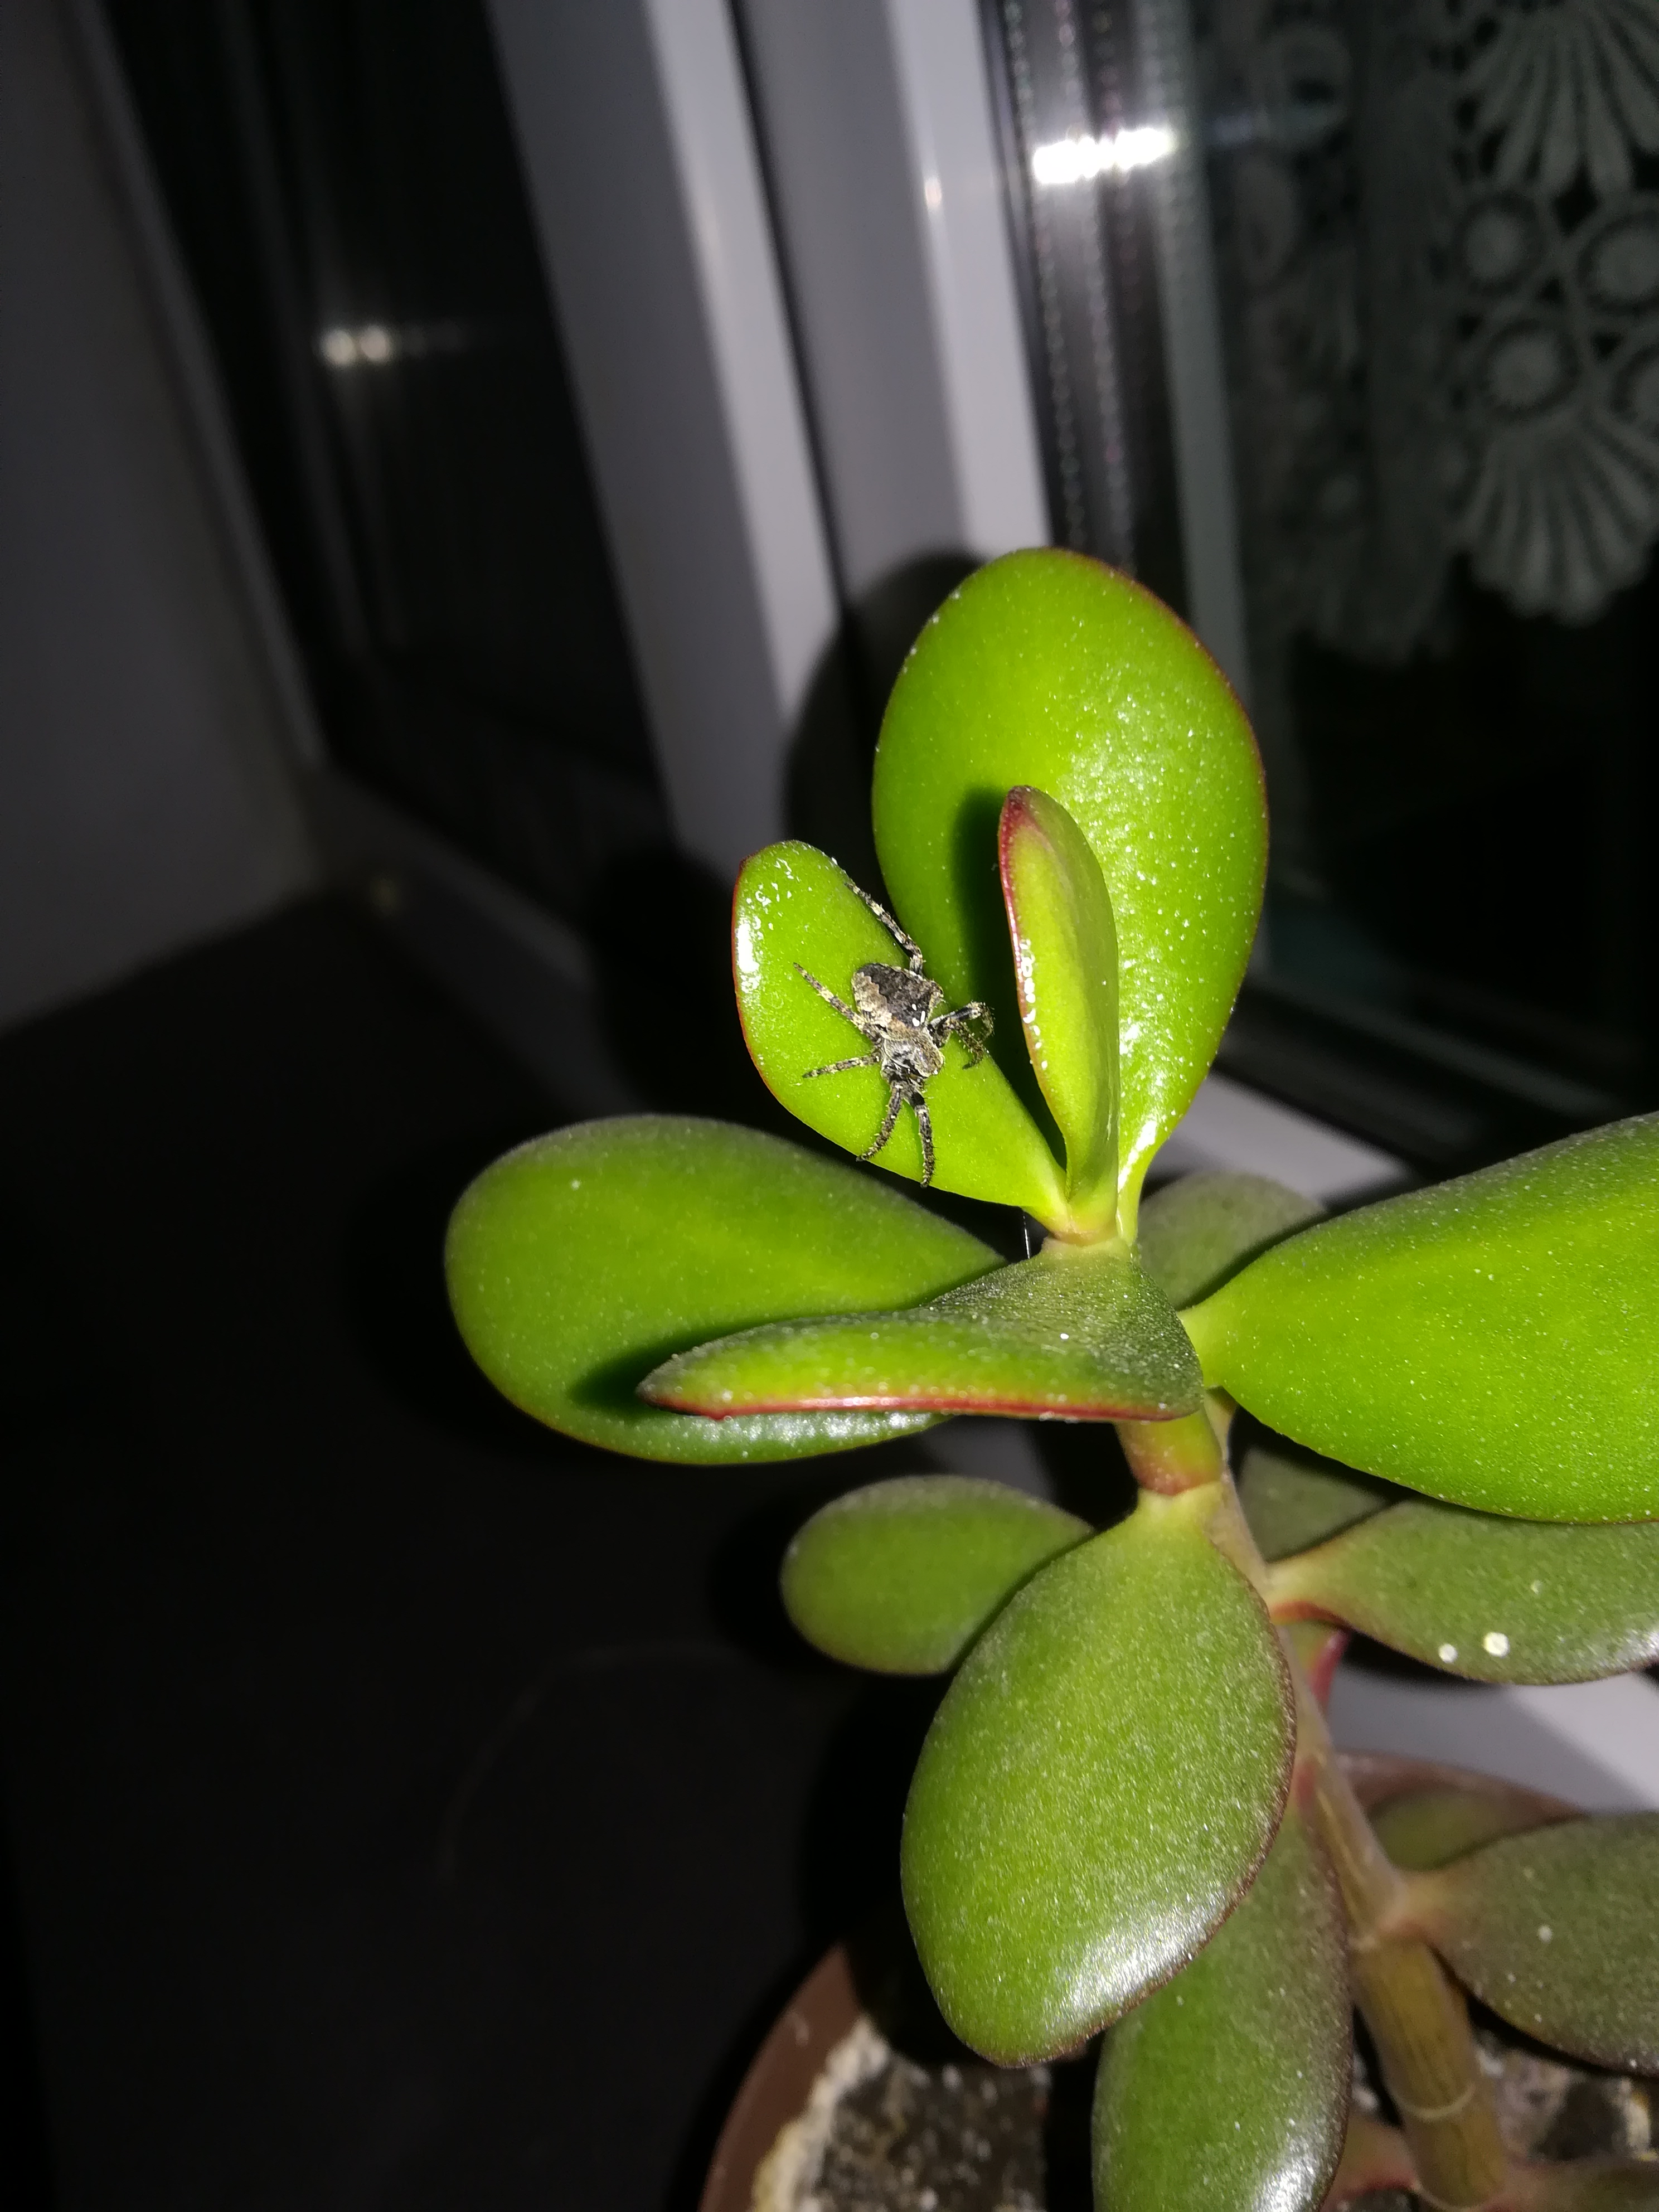spider: (739, 880, 1018, 1217)
